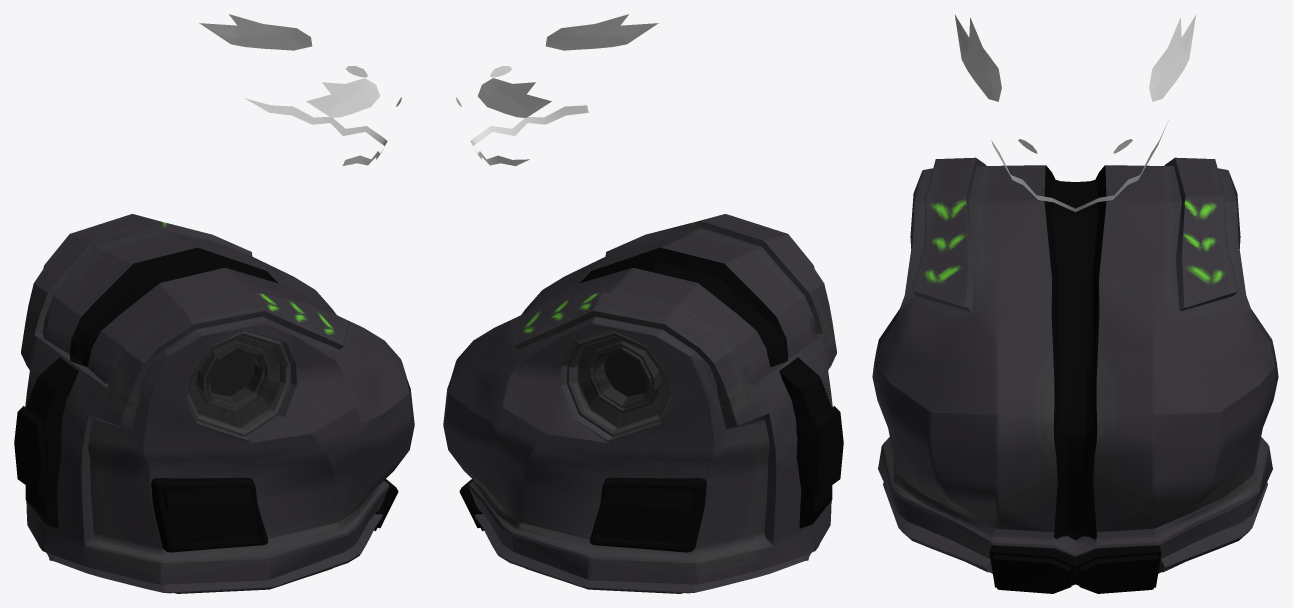
Rendered from AS_DiagF_MOuthNN.fbx.
3 renders of one model, left to right at view 1: azimuth 30°, elevation 25°; view 2: azimuth 150°, elevation 25°; view 3: azimuth 270°, elevation 25°, orthographic. The views are drawn at different scales.
Parts seen in each view (by area): view 1: Chest_armor, Face; view 2: Chest_armor, Face; view 3: Chest_armor, Face.
Boxes of the visible parts, bbox=[...] form: Chest_armor: bbox=[14, 214, 414, 593]; Face: bbox=[199, 14, 401, 165]; Chest_armor: bbox=[443, 214, 843, 593]; Face: bbox=[456, 14, 658, 166]; Chest_armor: bbox=[872, 157, 1278, 593]; Face: bbox=[955, 15, 1195, 211].
Bounding box in the file's own units: 30.69 × 26.77 × 38.9.
